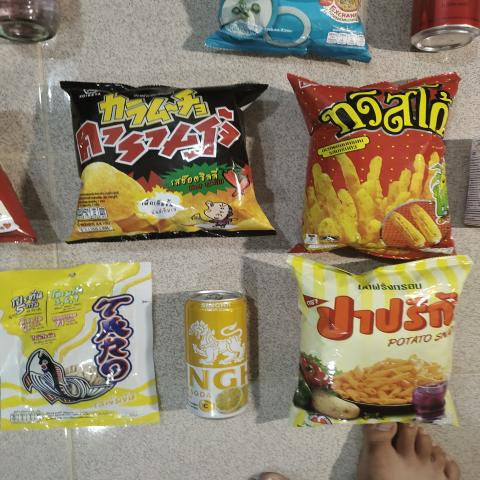karamujo: (64, 81, 270, 236)
paprika: (300, 264, 454, 423)
singha_yellow: (181, 292, 246, 424)
taro_yellow: (0, 262, 152, 428)
twisco: (311, 84, 447, 249)
